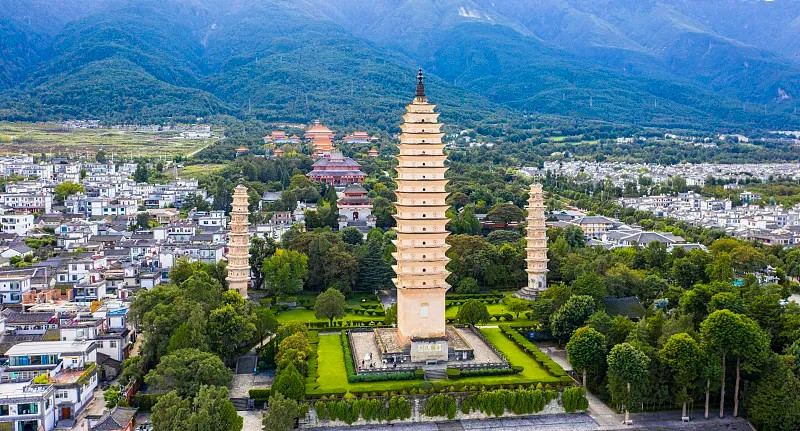ThreePagoda: (390, 69, 452, 338)
